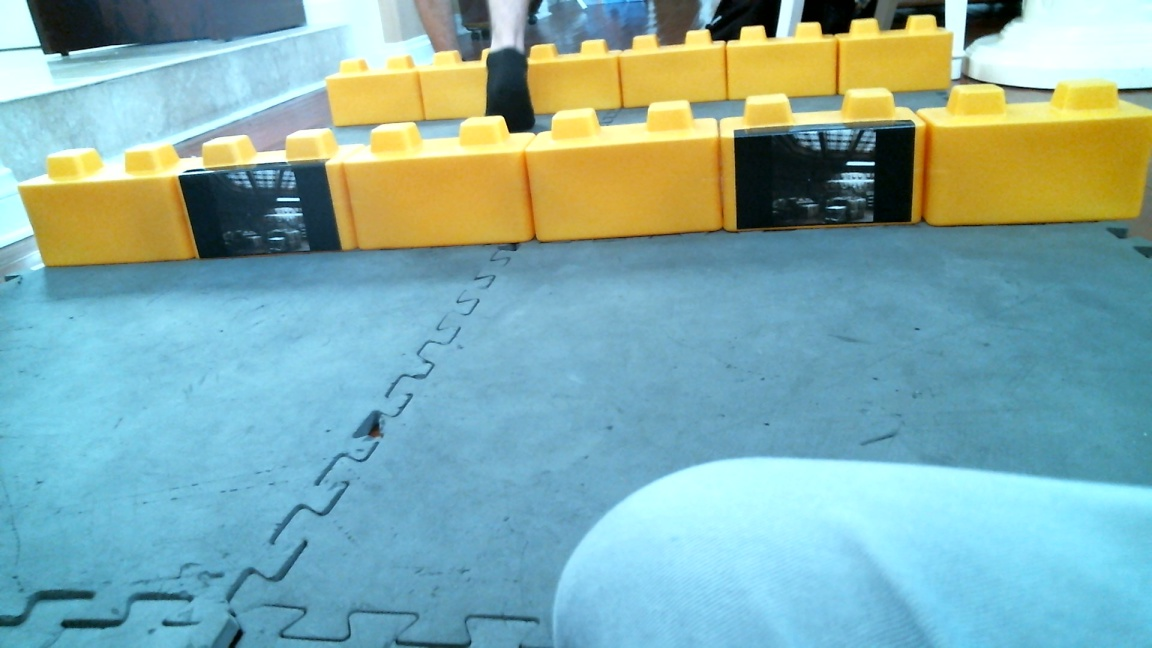skystone: (722, 87, 930, 231), (178, 127, 358, 257)
stone: (921, 81, 1149, 225), (529, 101, 725, 242), (342, 115, 538, 250), (20, 146, 198, 262), (838, 14, 957, 93), (726, 24, 842, 97), (420, 46, 528, 120), (623, 31, 729, 104), (518, 39, 624, 111), (324, 56, 427, 124)
